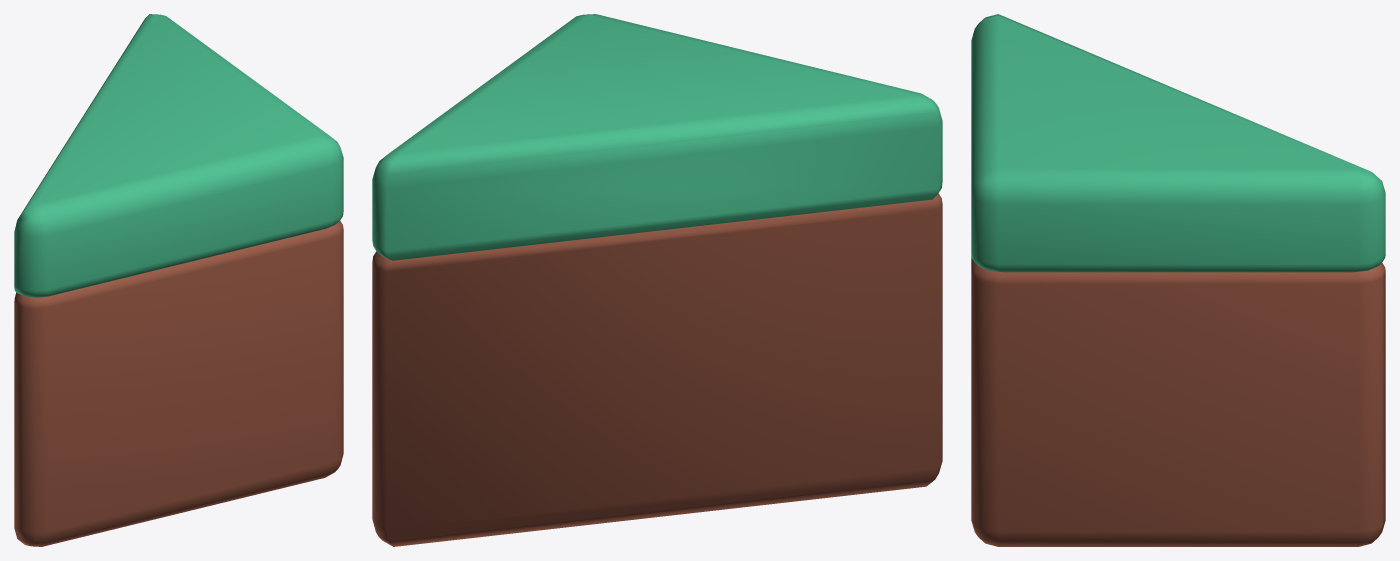
File: tileHigh_triangle_desert_001.glb
3 views of the same model, side by side, from view 1: azimuth 30°, elevation 25°; view 2: azimuth 150°, elevation 25°; view 3: azimuth 270°, elevation 25° (orthographic). The views are drawn at different scales.
Parts seen in each view (by area): view 1: tileHigh_triangle_desert.001; view 2: tileHigh_triangle_desert.001; view 3: tileHigh_triangle_desert.001.
Part boxes in pixels (bbox=[...]): tileHigh_triangle_desert.001: bbox=[14, 14, 343, 546]; tileHigh_triangle_desert.001: bbox=[372, 14, 942, 546]; tileHigh_triangle_desert.001: bbox=[971, 14, 1385, 546].
Size of the model in its own units: 2 by 2 by 2.
